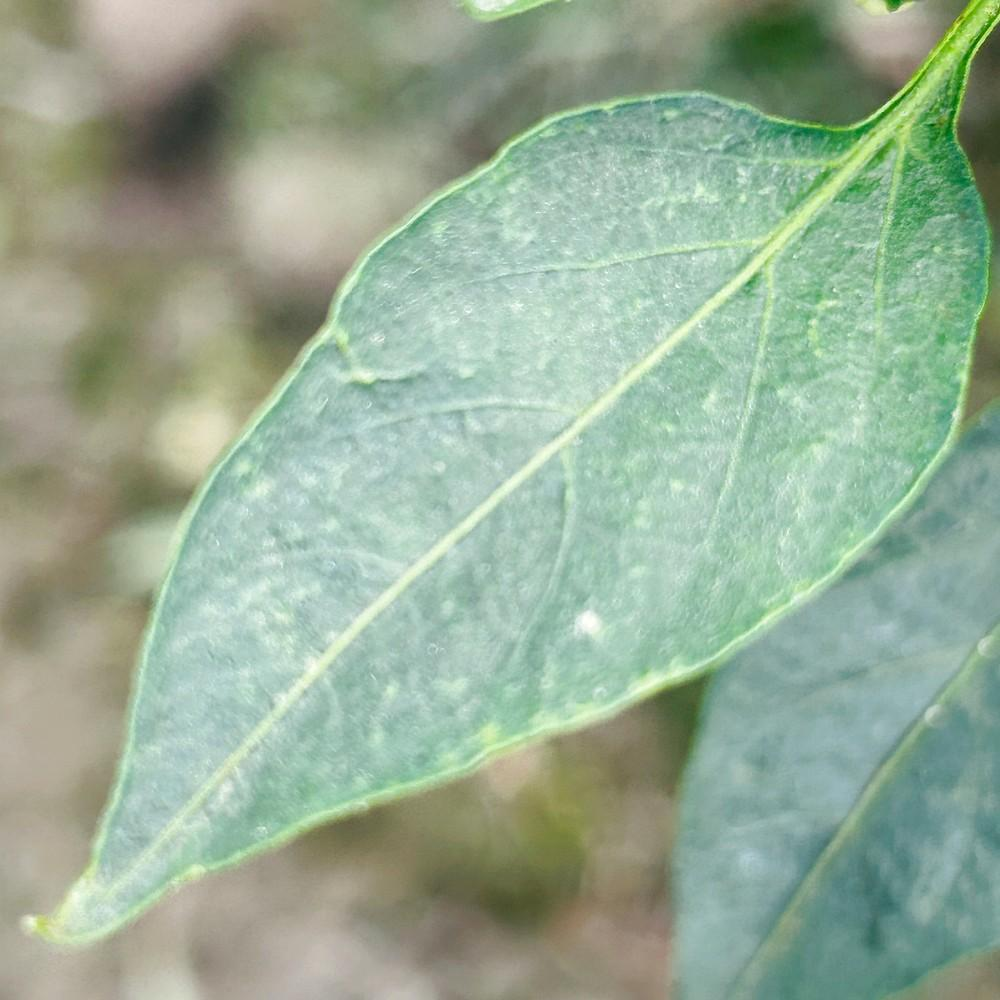Daun Cabai Sehat: (20, 0, 996, 954)
